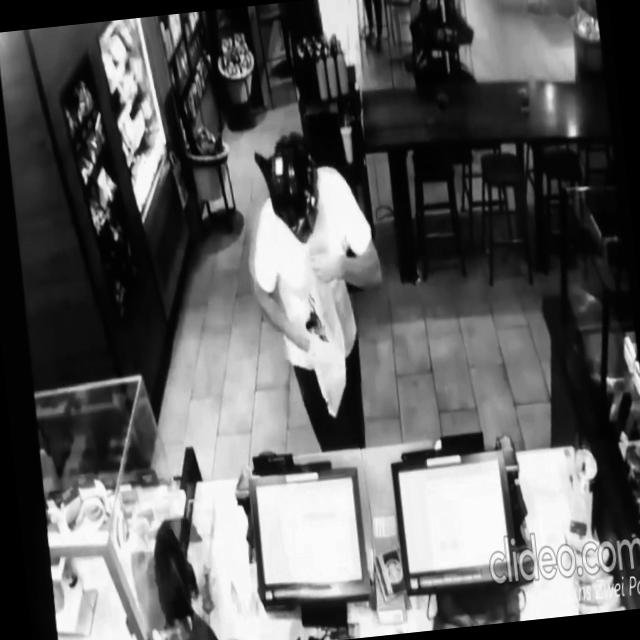gun: (301, 304, 330, 356)
person: (140, 509, 246, 640), (278, 0, 335, 128), (357, 0, 390, 55)
person with a gun: (235, 122, 401, 460)
